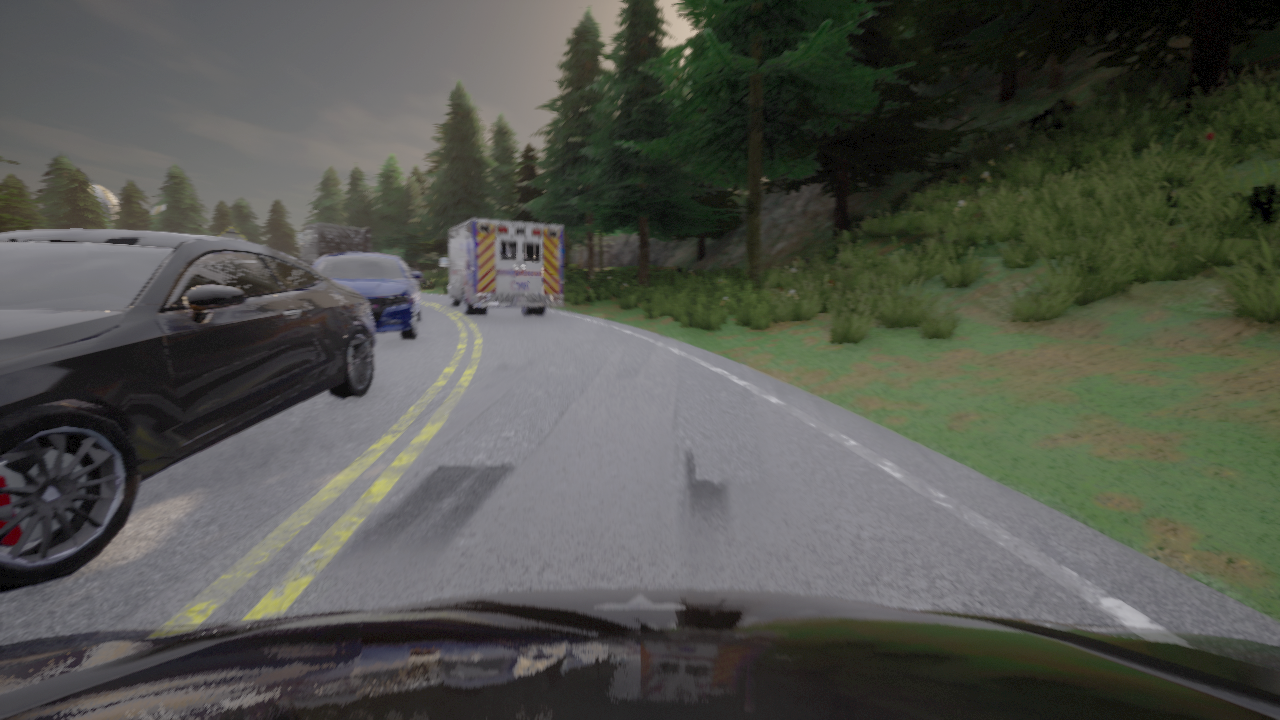cyclist: (0, 588, 1279, 719), (0, 229, 375, 593), (440, 218, 564, 315), (312, 252, 421, 338), (298, 223, 424, 284)
